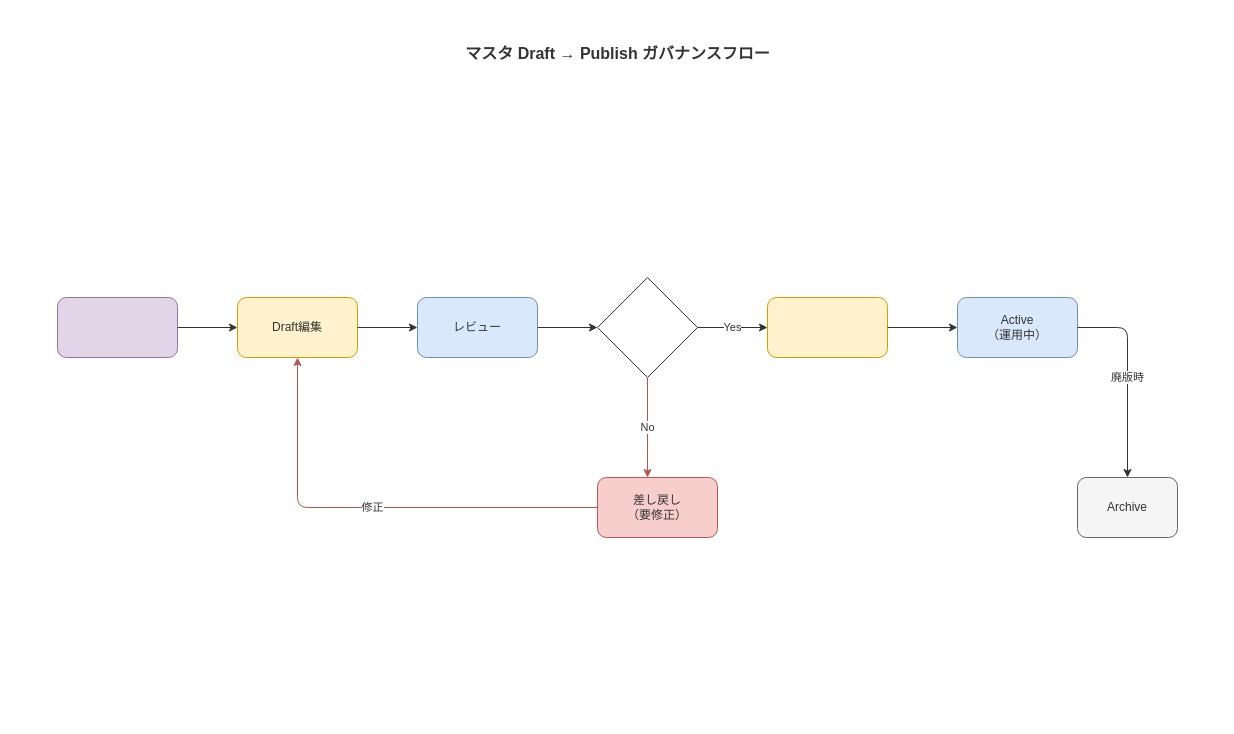
This 1234x734 diagram has some shape labels left out. Each missing label, with the centre of its shape:
"Publish" goes at [827,327].
"承認？" goes at [647,327].
"改訂提案" goes at [117,327].
